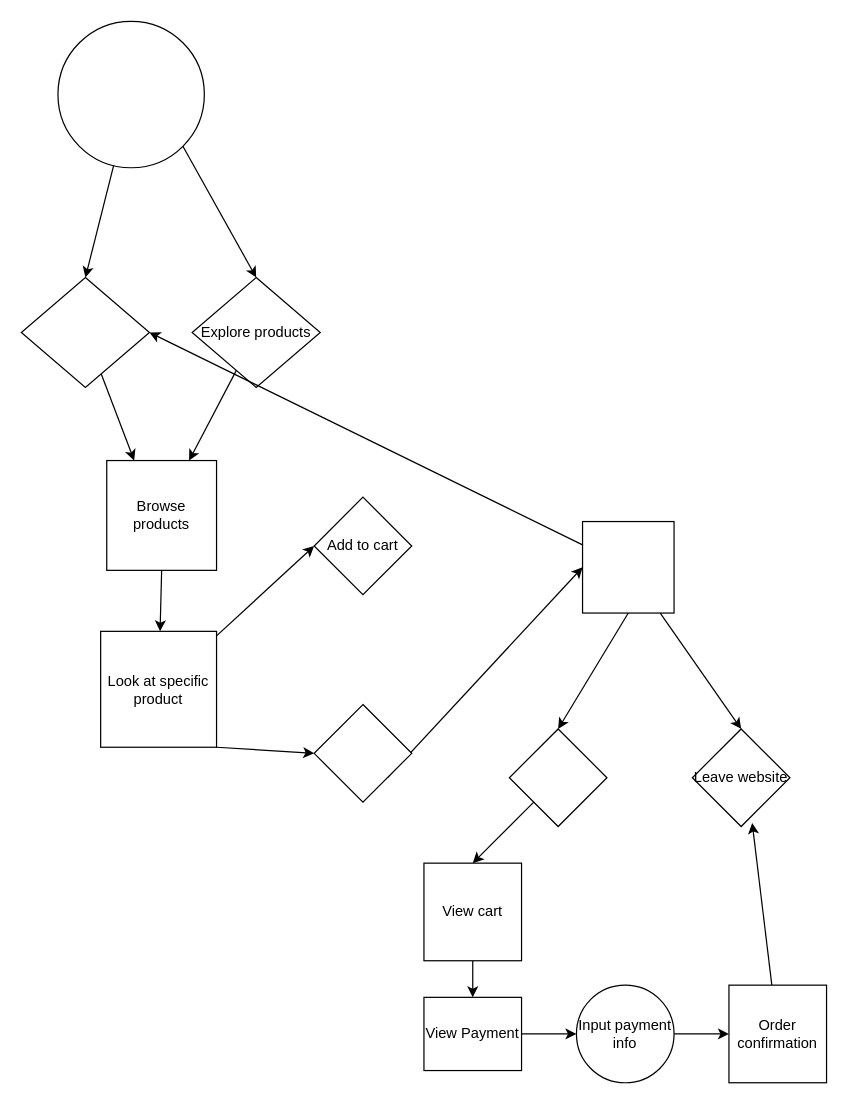
Image size: 848x1104. Some labels were removed from this diagram. Here are the shapes that lost their labels. From the top down, the centre of each, then its label:
At point 130,94: "User enters website".
At point 84,331: "Search for product".
At point 627,566: "Prompt whether to search for new product".
At point 362,752: "Continue shopping".
At point 557,777: "Checkout".
